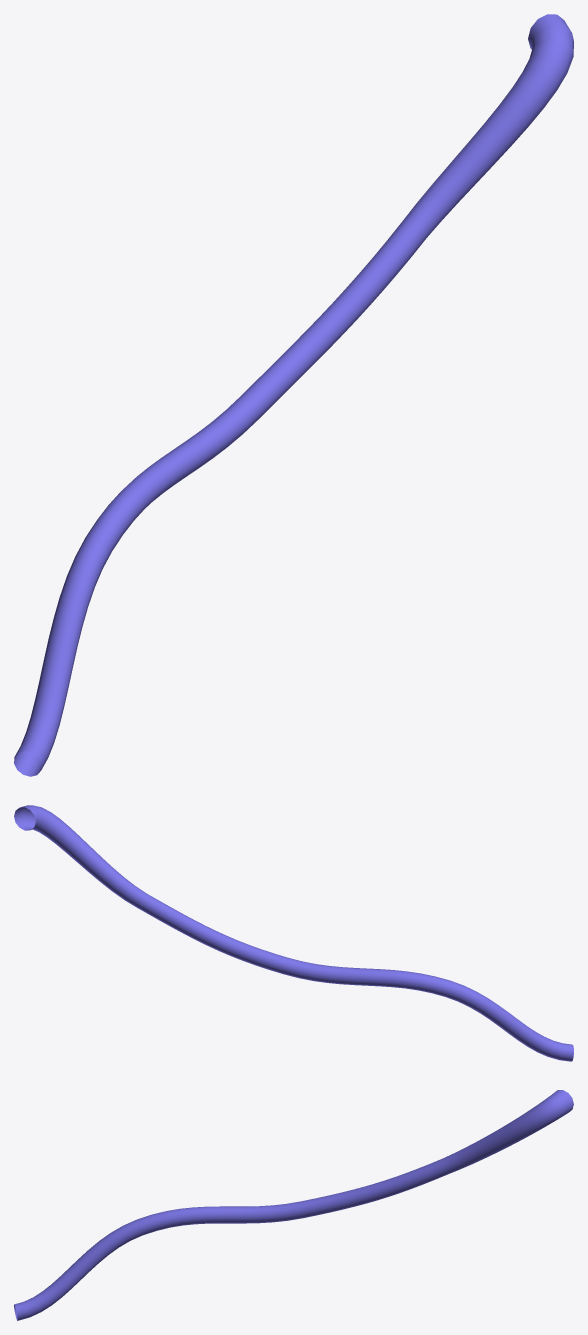
File: Lateral_plantar_veins.r_BezierCurve.457.glb
The picture shows the model from 3 angles, top to bottom: view 1: azimuth 30°, elevation 25°; view 2: azimuth 150°, elevation 25°; view 3: azimuth 330°, elevation 25°; orthographic projection. The views are drawn at different scales.
Visible parts, largest first — view 1: Lateral_plantar_veins.r_BezierCurve.457; view 2: Lateral_plantar_veins.r_BezierCurve.457; view 3: Lateral_plantar_veins.r_BezierCurve.457.
Boxes of the visible parts, left/top/right/bottom form: Lateral_plantar_veins.r_BezierCurve.457: left=14, top=14, right=573, bottom=776; Lateral_plantar_veins.r_BezierCurve.457: left=14, top=805, right=573, bottom=1061; Lateral_plantar_veins.r_BezierCurve.457: left=14, top=1090, right=573, bottom=1320.
Size of the model in its own units: 0.0397 by 0.021 by 0.0202.
